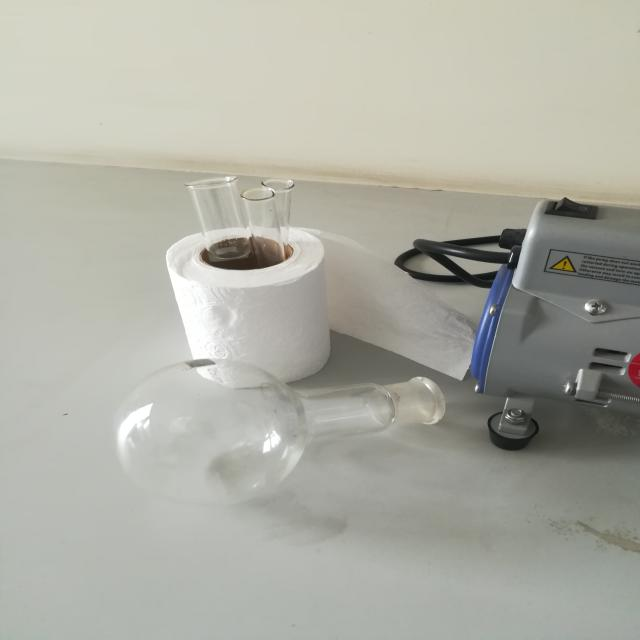Round_Bottom_Flask_Borosilicate_Glass_1_Neck: (87, 305, 459, 541)
